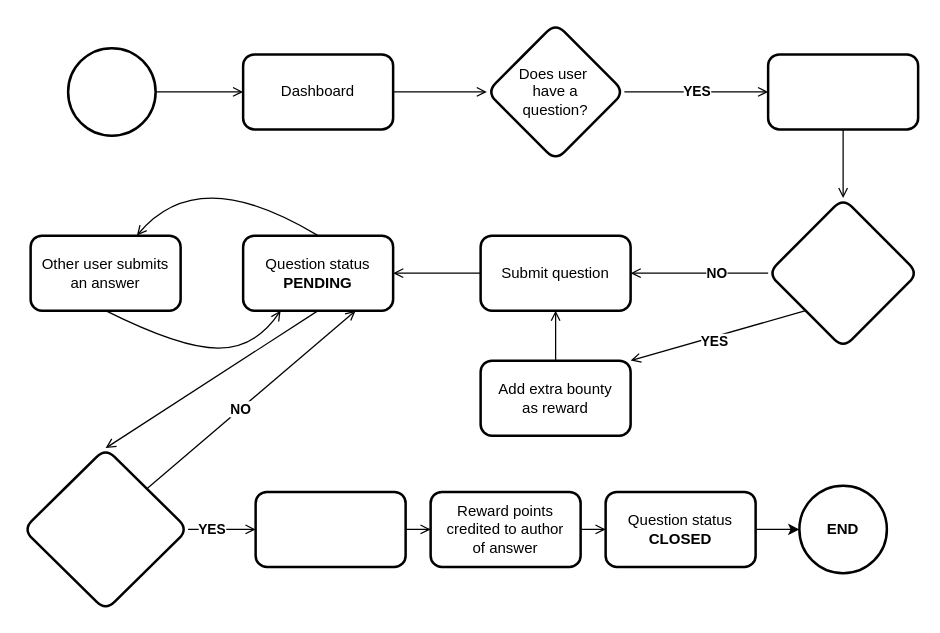
The diagram is 940 pixels wide and 633 high, and some of its shapes have lost their labels. The centre of each missing label's shape, as x and y in pixels:
"Does the author receive desired answer?" belongs at point (105, 528).
"Fill in title, category and content of question" belongs at point (842, 91).
"Mark one answer as correct" belongs at point (330, 529).
"START" belongs at point (111, 91).
"Urgent or really important question?" belongs at point (842, 272).
